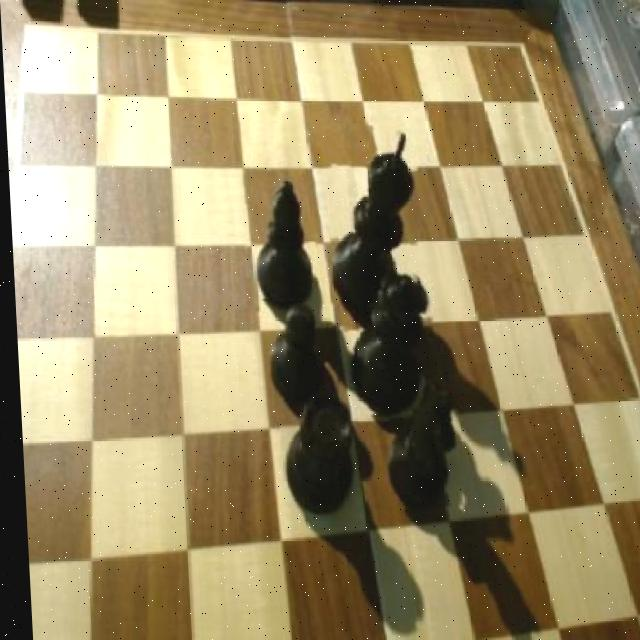bishop: (239, 171, 316, 312)
black-bishop: (320, 125, 420, 310)
black-king: (370, 377, 459, 511)
black-knight: (255, 298, 326, 408)
black-pawn: (335, 266, 435, 413)
black-queen: (274, 392, 356, 518)
